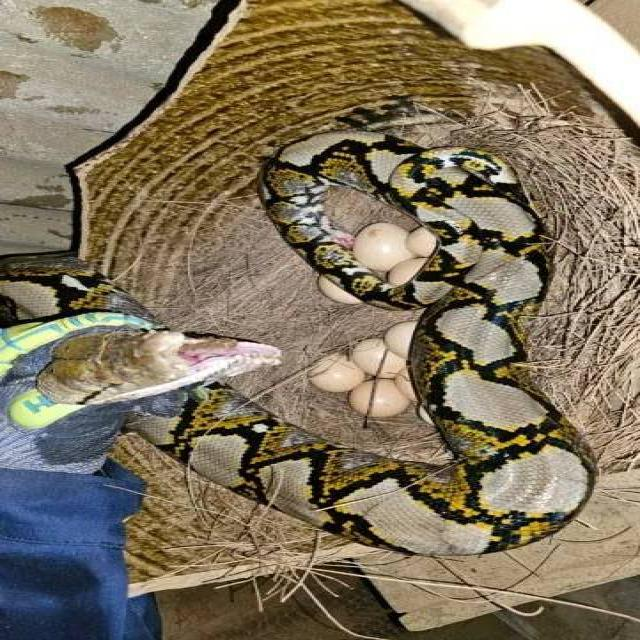Non-Venomous: (65, 324, 322, 467)
